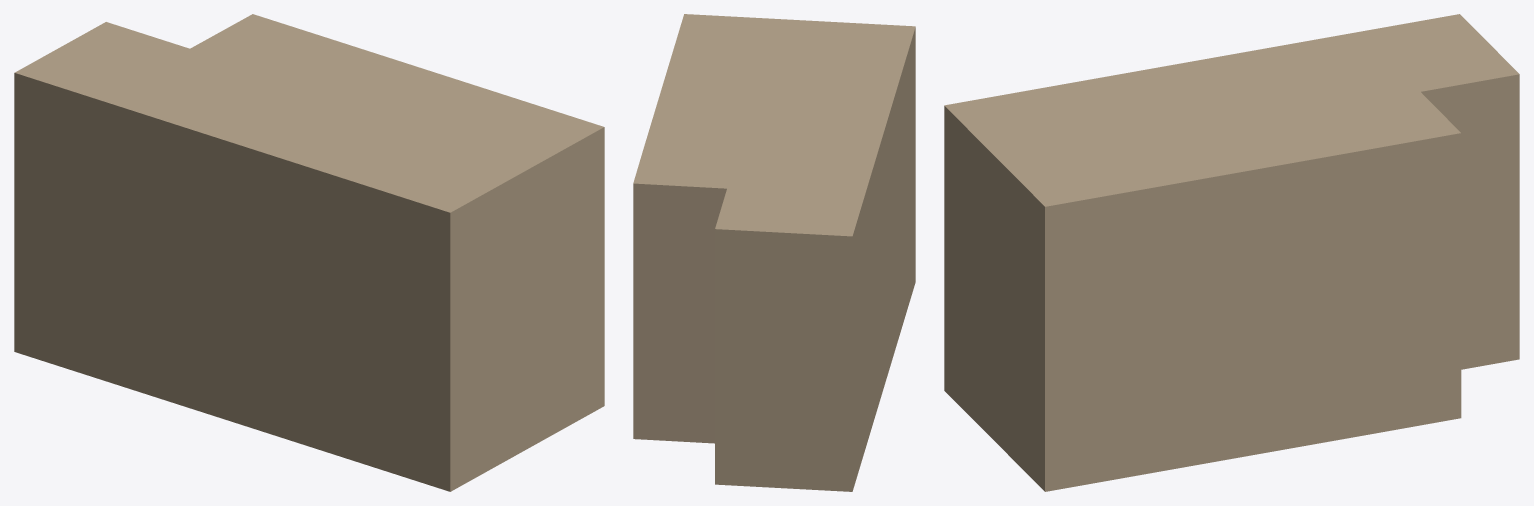
Rendered from bld_106339122.dae.
3 renders of one model, left to right at view 1: azimuth 30°, elevation 25°; view 2: azimuth 150°, elevation 25°; view 3: azimuth 270°, elevation 25°, orthographic. The views are drawn at different scales.
Parts seen in each view (by area): view 1: bld_106339122; view 2: bld_106339122; view 3: bld_106339122.
Part boxes in pixels (bbox=[...]): bld_106339122: bbox=[14, 14, 604, 491]; bld_106339122: bbox=[633, 14, 915, 491]; bld_106339122: bbox=[944, 14, 1519, 491].
Size of the model in its own units: 11.6 by 14.64 by 8.
